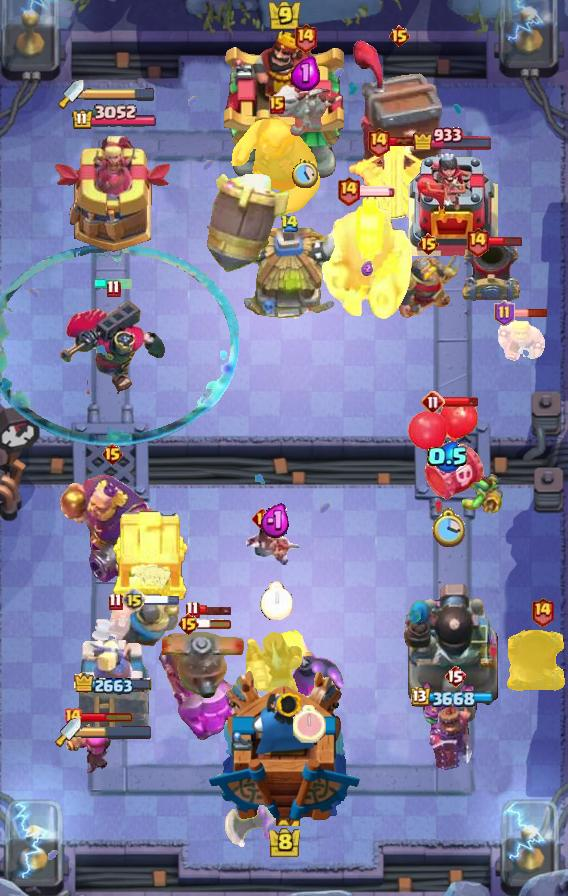archer: (494, 313, 546, 365)
baby-dragon: (273, 628, 345, 702)
balloon: (230, 117, 324, 217)
bar: (52, 132, 176, 256), (77, 637, 151, 731)
bomb: (110, 508, 190, 602)
dark-prince: (162, 611, 246, 699)
dart-goblin: (352, 39, 446, 199)
electro-spirit: (427, 441, 469, 473), (260, 503, 292, 539), (291, 56, 320, 91), (361, 260, 373, 275)
elixir: (431, 508, 465, 549), (259, 581, 292, 620), (294, 705, 327, 743), (292, 159, 318, 188)
elixir-golem-big: (428, 689, 482, 771)
emote: (82, 711, 135, 723), (143, 594, 180, 607), (358, 185, 396, 197), (488, 235, 524, 247), (443, 396, 479, 408), (197, 604, 233, 616), (197, 618, 233, 630), (389, 136, 424, 147), (513, 308, 548, 318)
firecracker: (398, 255, 458, 319), (117, 597, 181, 653)
furnace: (158, 628, 244, 752)
giant-skeleton: (319, 194, 415, 322)
giant-snowball: (457, 472, 505, 514)
hog-rider: (89, 601, 141, 653)
ice-spirit: (93, 279, 133, 289)
inferno-dragon: (243, 629, 303, 719)
inferno-tower: (58, 298, 168, 394)
king-tower: (207, 669, 361, 826), (224, 29, 344, 181)
king-tower-bar: (84, 87, 156, 101), (81, 725, 153, 739)
lava-pup: (345, 140, 443, 222)
lightning: (56, 471, 168, 583)
mini-pekka: (266, 54, 344, 140)
musketeer: (504, 628, 568, 694), (460, 237, 522, 305)
pad_0: (1, 243, 240, 447)
prince: (238, 228, 340, 324)
queen-tower: (408, 152, 498, 256)
royal-giant: (224, 803, 276, 853)
royal-recruit-evolution: (407, 398, 489, 504)
selected: (70, 104, 157, 131), (412, 124, 494, 150), (74, 673, 154, 697), (412, 687, 497, 709)
skeleton-dragon: (245, 520, 307, 572)
text: (293, 23, 318, 54), (335, 175, 360, 206), (465, 226, 490, 257), (529, 597, 554, 628), (366, 126, 390, 157), (421, 390, 445, 414), (122, 588, 146, 612), (493, 300, 515, 326), (388, 24, 411, 48), (416, 232, 439, 256), (100, 442, 123, 466), (177, 612, 200, 636), (444, 664, 466, 688), (252, 507, 273, 529), (63, 707, 83, 727), (280, 215, 299, 233), (269, 96, 285, 114), (106, 279, 121, 298), (108, 593, 123, 611), (185, 601, 199, 620)
tombstone: (65, 721, 112, 777)
tower-bar: (402, 579, 504, 731)
x-bow: (206, 175, 291, 273)
